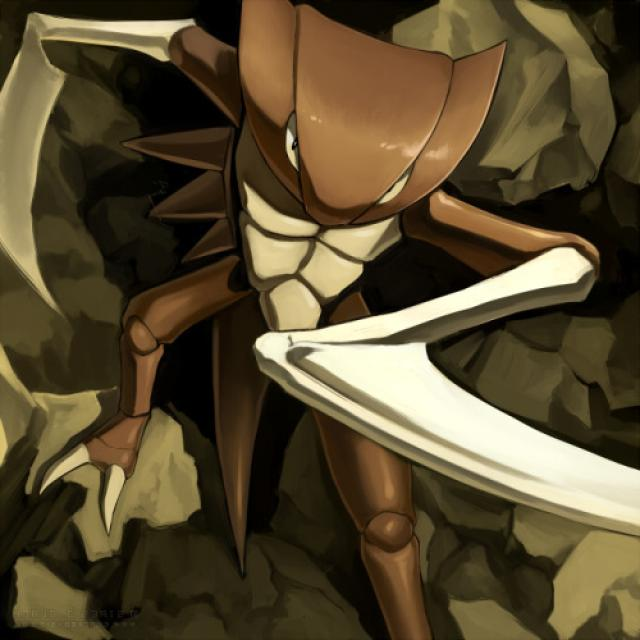Kabutops: (26, 0, 538, 516)
